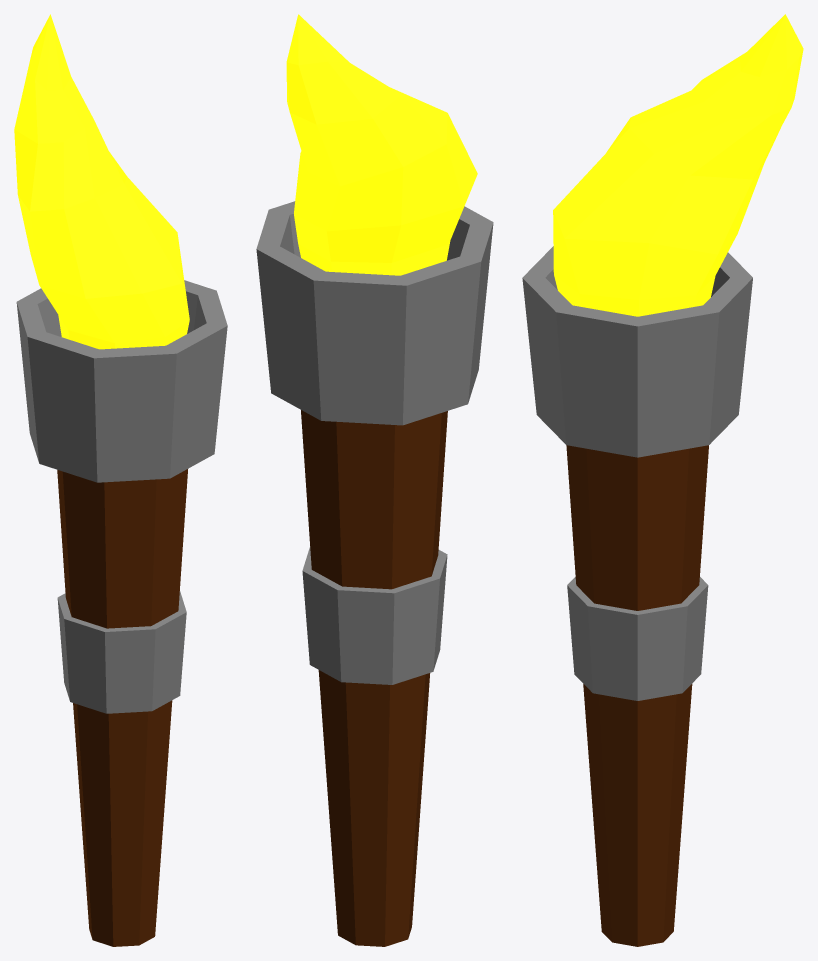
Rendered from Torch_1.fbx.
The picture shows the model from 3 angles, left to right: view 1: azimuth 30°, elevation 25°; view 2: azimuth 150°, elevation 25°; view 3: azimuth 270°, elevation 25°; orthographic projection. The views are drawn at different scales.
Visible parts, largest first — view 1: Torch.003; view 2: Torch.003; view 3: Torch.003.
Part boxes in pixels (left/top/right/bottom): Torch.003: left=14, top=14, right=227, bottom=946; Torch.003: left=256, top=14, right=493, bottom=946; Torch.003: left=522, top=14, right=803, bottom=946.
Bounding box in the file's own units: 31.98 × 140 × 38.97.
